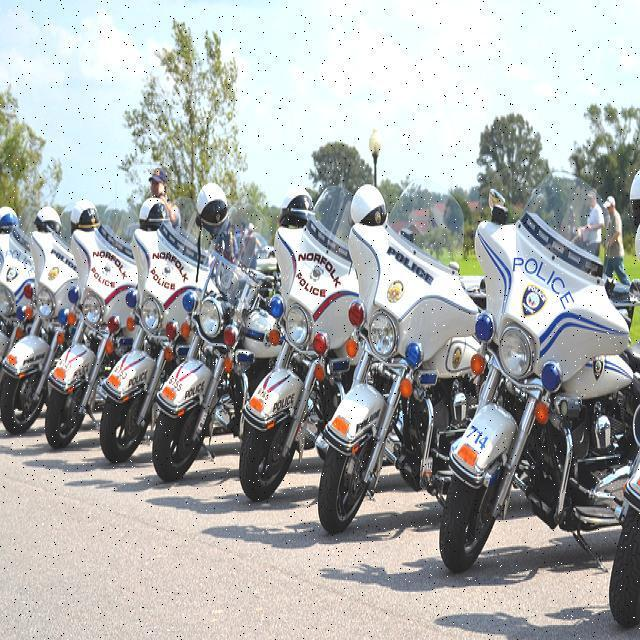motorcycle: (431, 197, 636, 592), (314, 185, 462, 562), (238, 177, 354, 537), (151, 162, 275, 496), (99, 185, 215, 506), (45, 184, 137, 456), (0, 191, 68, 461)
